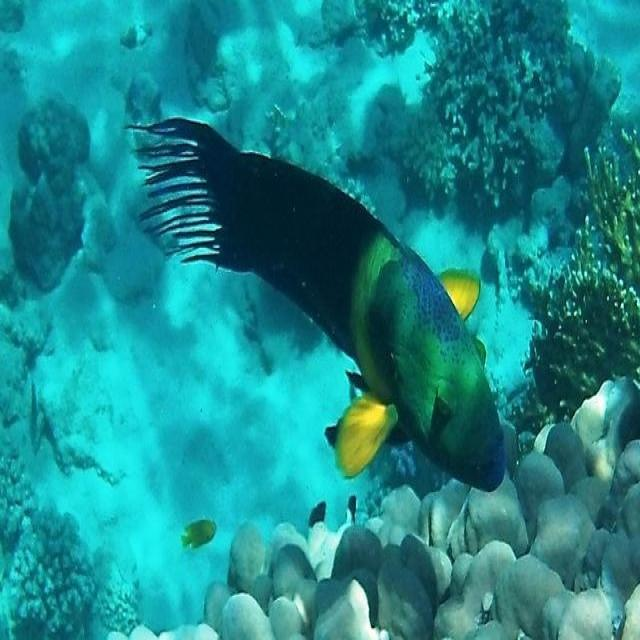fish: (124, 115, 505, 490), (180, 519, 217, 550)
reefs: (156, 3, 639, 637)
